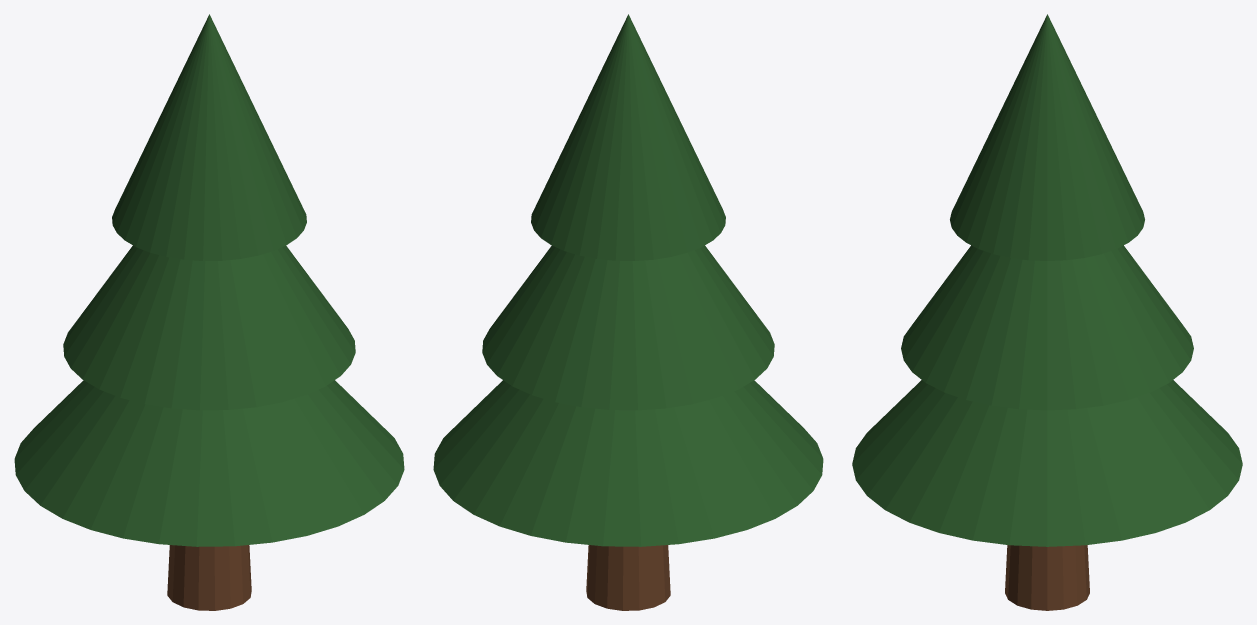
Rendered from obstacle_tree_3.fbx.
The picture shows the model from 3 angles, left to right: view 1: azimuth 30°, elevation 25°; view 2: azimuth 150°, elevation 25°; view 3: azimuth 270°, elevation 25°; orthographic projection.
Parts seen in each view (by area): view 1: Cylinder; view 2: Cylinder; view 3: Cylinder.
Part boxes in pixels (left/top/right/bottom): Cylinder: left=14, top=14, right=404, bottom=610; Cylinder: left=433, top=14, right=823, bottom=610; Cylinder: left=852, top=14, right=1242, bottom=610.
Size of the model in its own units: 275 by 450 by 275.
